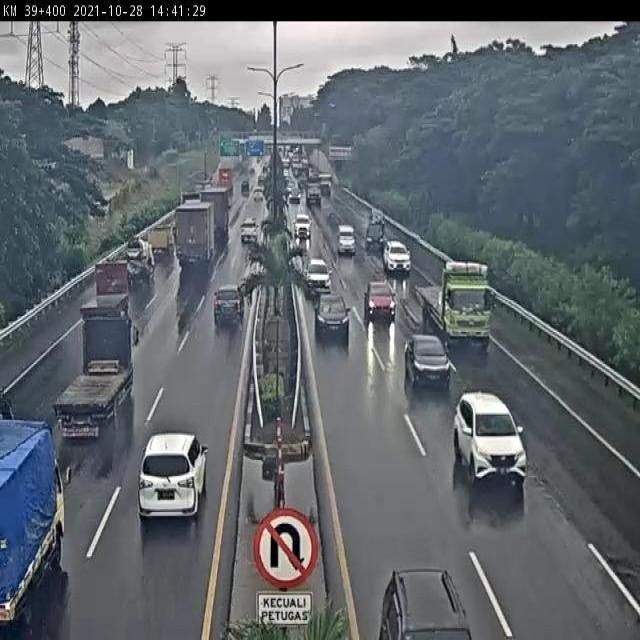car: (453, 391, 529, 485), (137, 431, 207, 525), (404, 334, 451, 389), (315, 293, 350, 339), (213, 282, 244, 326), (364, 281, 396, 320), (304, 258, 332, 294), (383, 241, 411, 275), (336, 224, 356, 255), (239, 217, 258, 243)
mid truck: (414, 258, 494, 346), (174, 201, 216, 264)
small truck: (146, 225, 175, 259)
truck-m-: (52, 313, 136, 440), (77, 260, 129, 319), (123, 236, 156, 288)
